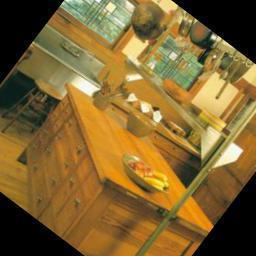Lavaplatos: (32, 20, 115, 95)
